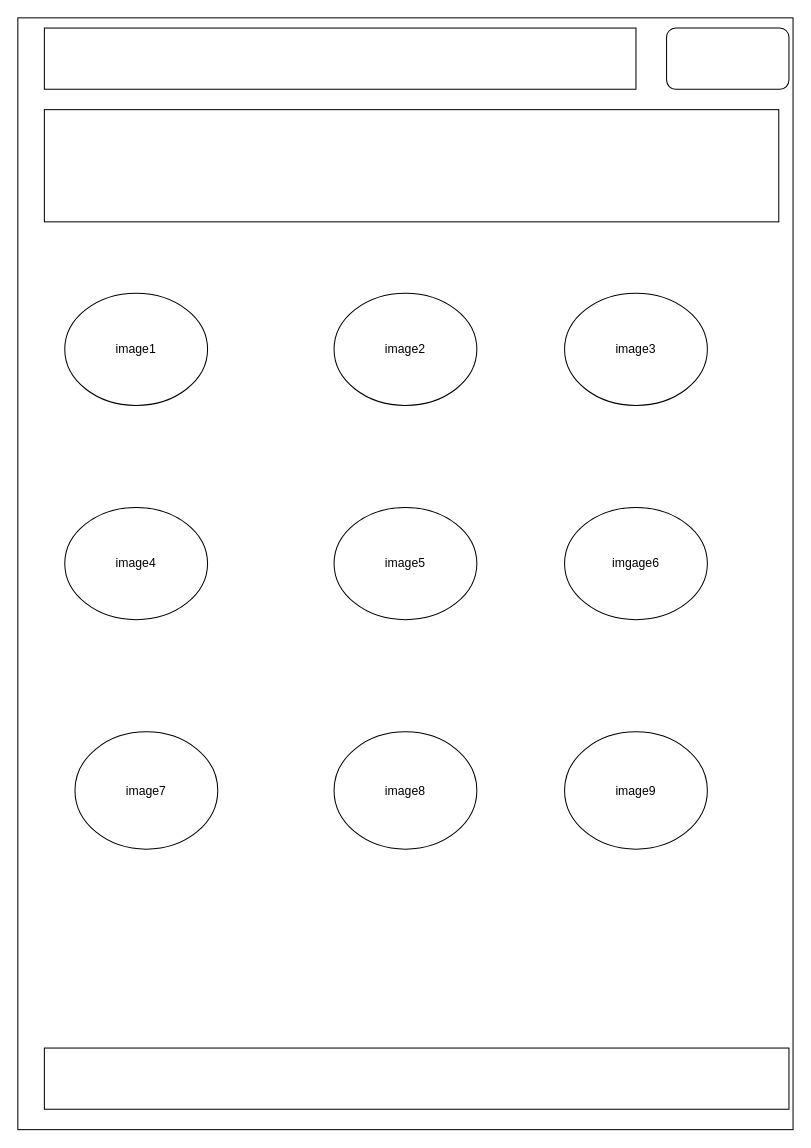
Some shapes in this 811 by 1148 pixel diagram are drawn without their labels. The shapes that lost their labels are listed below. From the top down, each one's centre as x and y in pixels, then its label:
At point 339,58: "Title".
At point 727,58: "basket".
At point 411,165: "cute cat image".
At point 416,1078: "footer".
